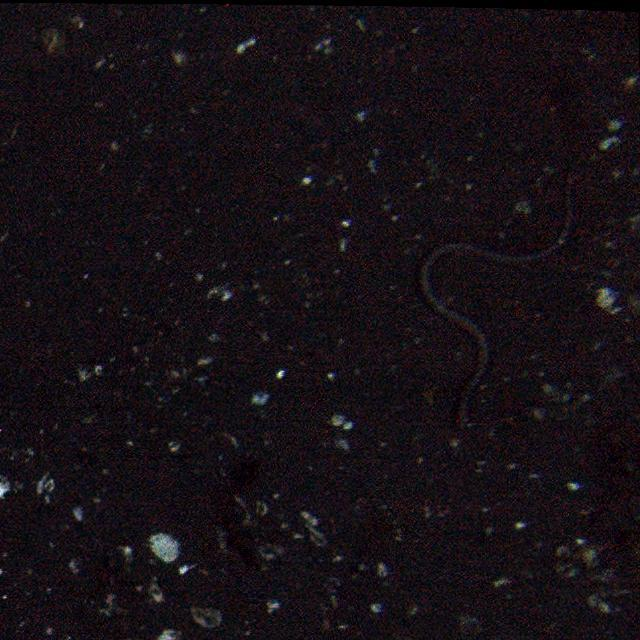eel: (424, 193, 580, 426)
